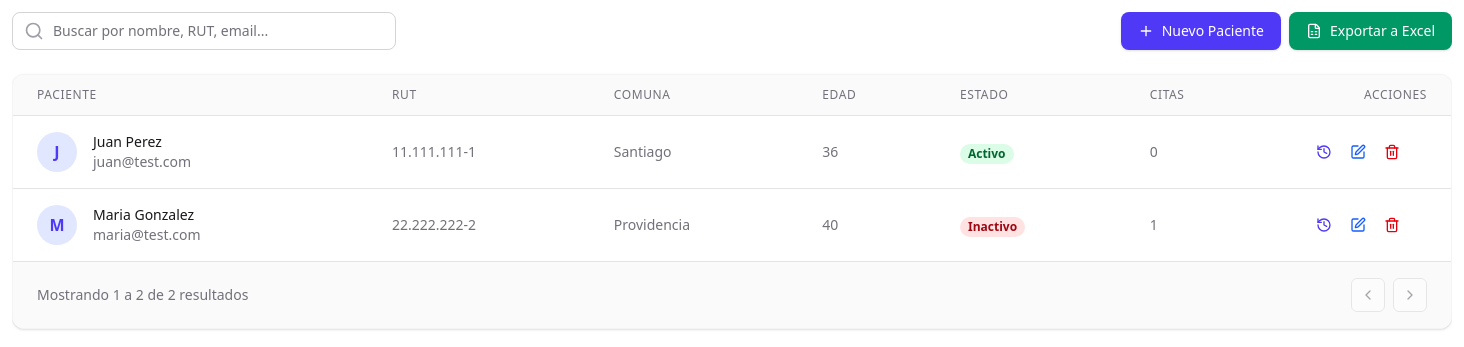
Scenario: PatientsTable Component › shows no results message
Type "NonExistent" into the field with placeholder "Buscar por nombre, RUT, email..." at {"x": 204, "y": 31}, box left=12, top=12, right=396, bottom=50
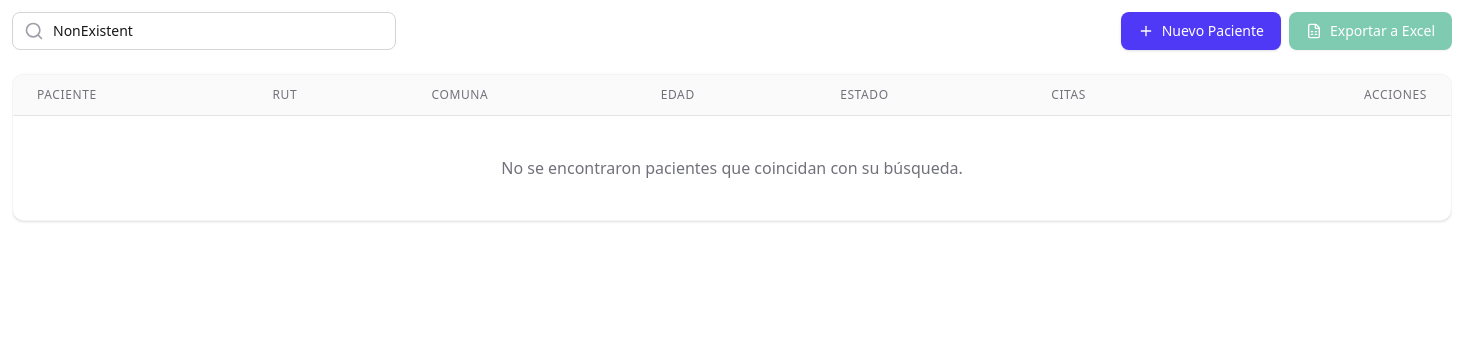
Expected: the text "No se encontraron pacientes que coincidan con su búsqueda." is shown, left=501, top=157, right=963, bottom=179
